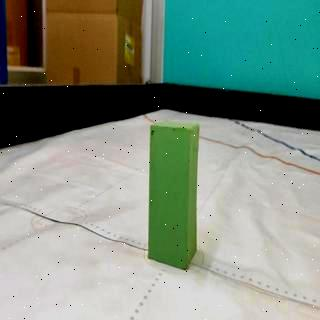greenbox: (148, 124, 200, 272)
